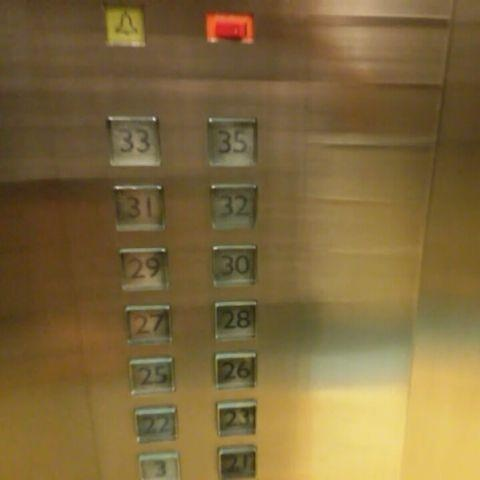21: (216, 443, 259, 480)
22: (132, 403, 179, 445)
23: (216, 398, 258, 438)
25: (126, 356, 177, 398)
26: (214, 350, 257, 390)
27: (124, 302, 172, 346)
28: (213, 298, 258, 342)
29: (117, 244, 169, 295)
3: (137, 451, 179, 480)
30: (212, 244, 257, 290)
31: (113, 184, 165, 233)
32: (210, 183, 257, 232)
33: (107, 114, 164, 168)
35: (205, 115, 259, 169)
alarm: (102, 3, 147, 49)
switch: (205, 9, 254, 48)
